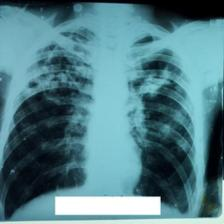tuberculosis: (1, 19, 202, 219)
